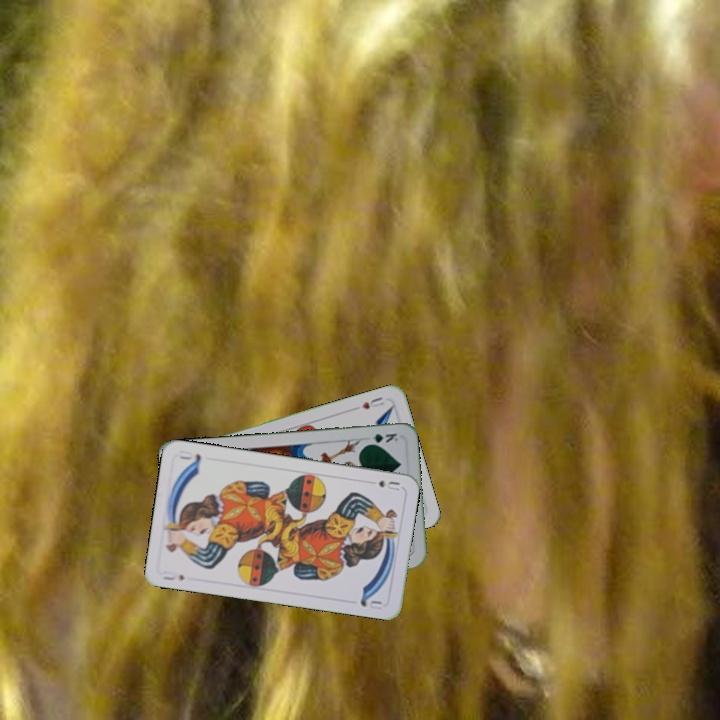GK: (361, 429, 400, 447)
HU: (357, 393, 387, 412)
SU: (375, 476, 402, 493), (159, 567, 187, 583)
